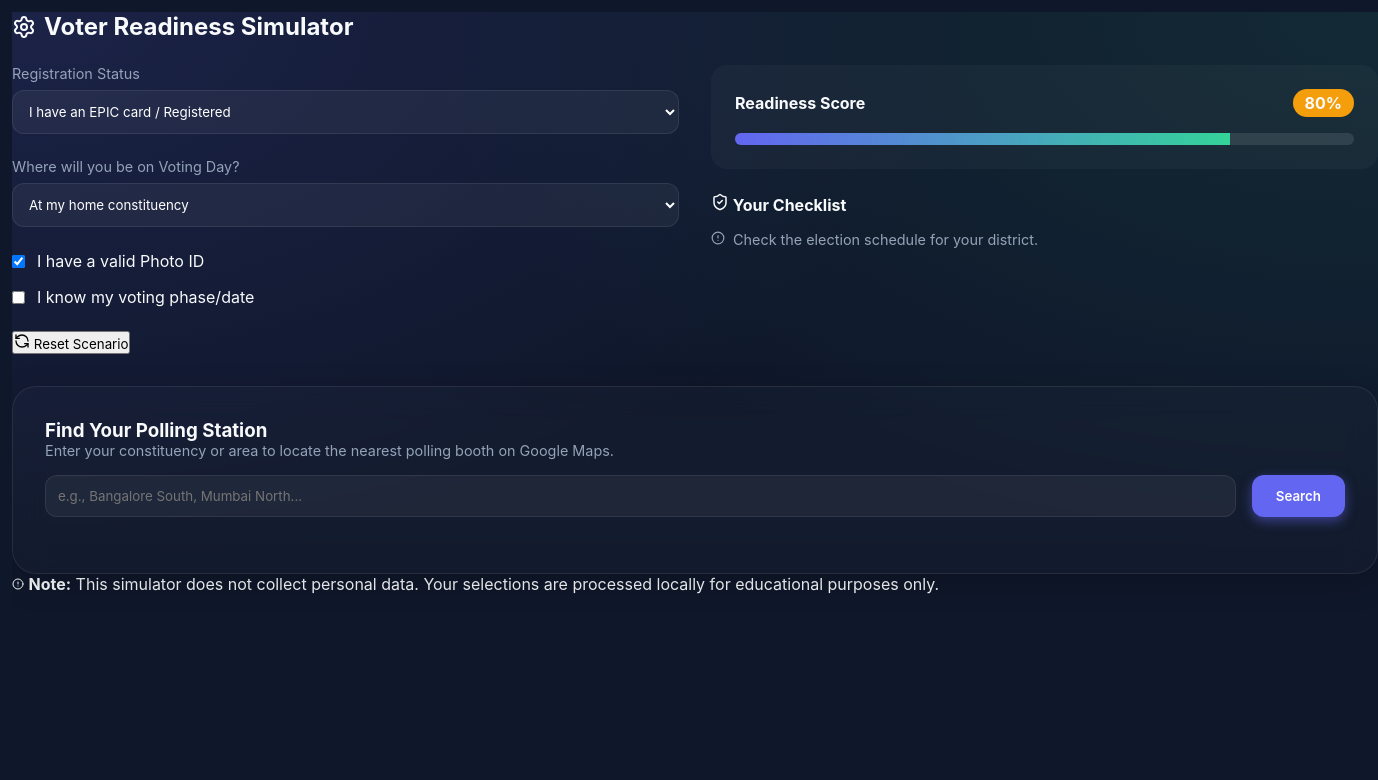
Scenario: VoterSimulator Component › decreases score when unchecking ID requirement
The width and height of the screenshot is (1378, 780).
Click the checkbox labelled "I have a valid Photo ID": (18, 261) [12, 254, 25, 268]
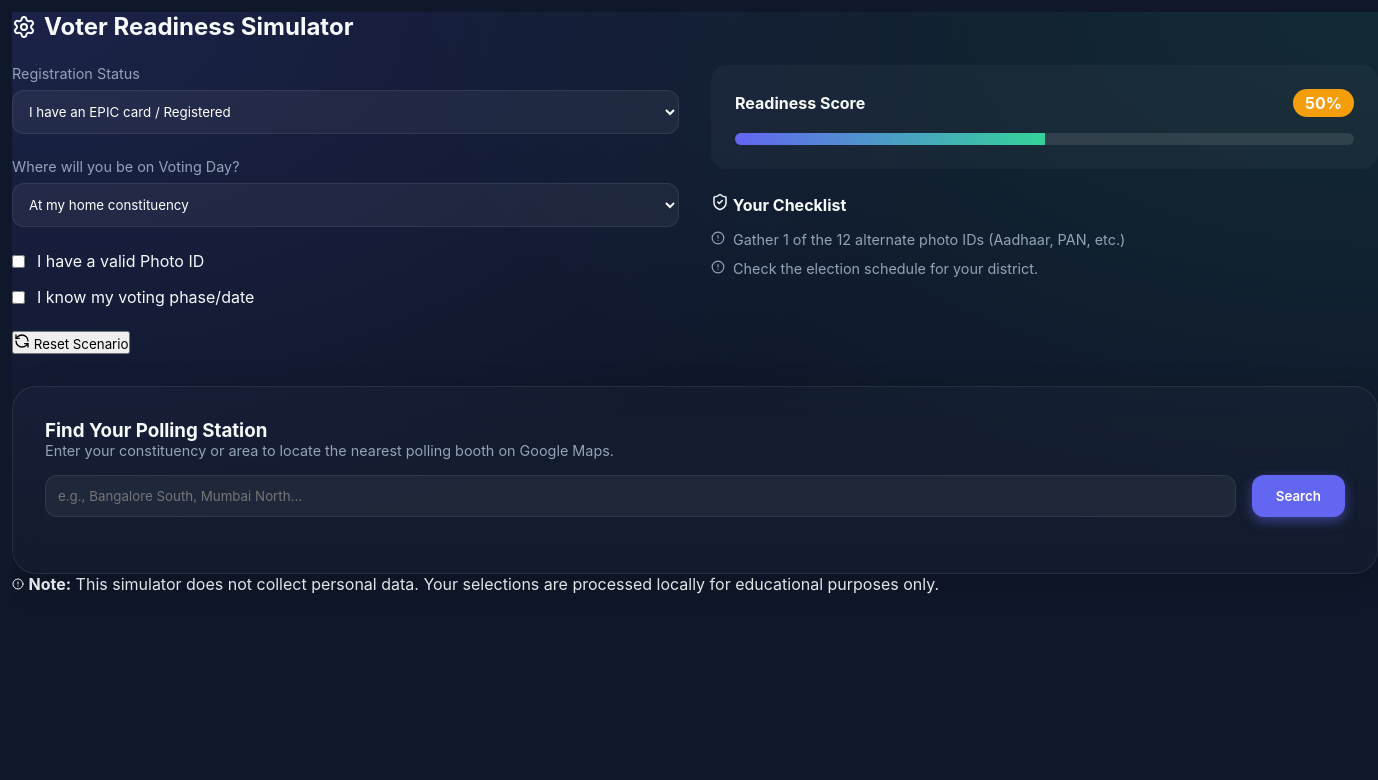
expect the text "50%" is shown: met, box [1293, 89, 1354, 117]
expect the list item "Gather 1 of the 12 alternate photo IDs (Aadhaar, PAN, etc.)" is shown: met, box [711, 231, 1125, 248]
